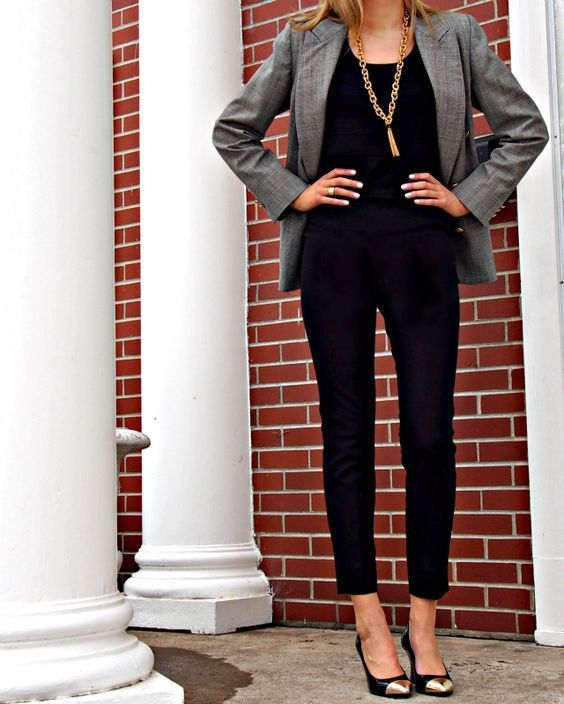F_W_suit jacket: (229, 18, 551, 298)
